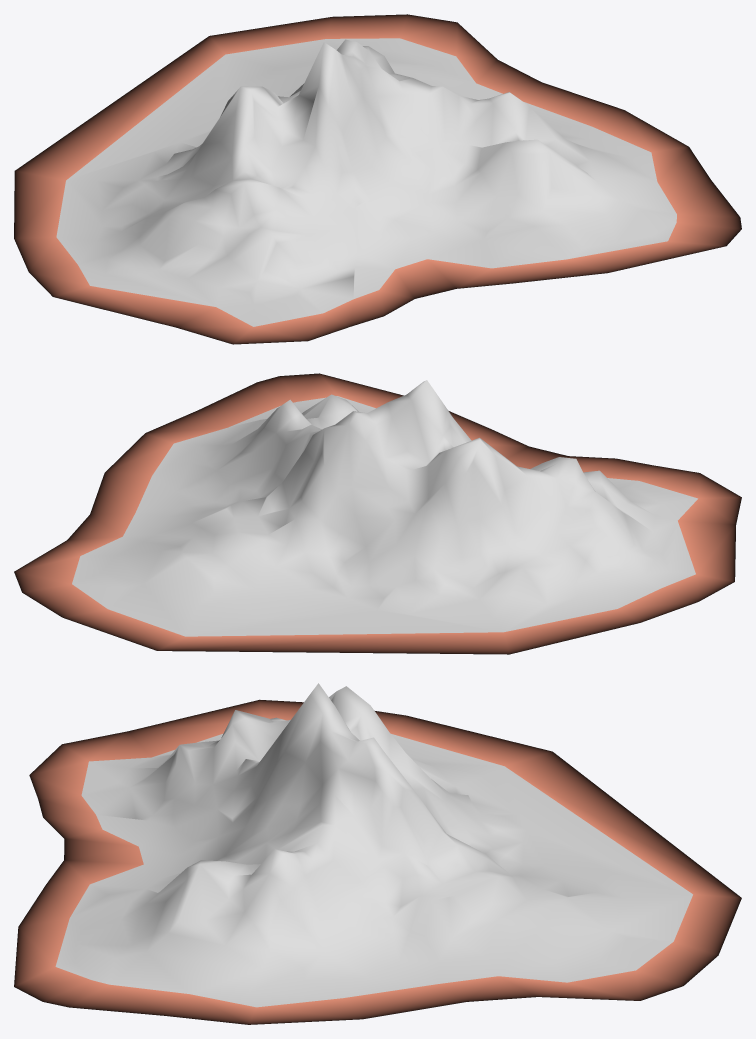
File: mountain_1.FBX
The picture shows the model from 3 angles, top to bottom: view 1: azimuth 30°, elevation 25°; view 2: azimuth 150°, elevation 25°; view 3: azimuth 270°, elevation 25°; orthographic projection. The views are drawn at different scales.
Visible parts, largest first — view 1: mountain_1_; view 2: mountain_1_; view 3: mountain_1_.
Part boxes in pixels (x1=…): mountain_1_: x1=14, y1=14, x2=741, y2=344; mountain_1_: x1=14, y1=373, x2=741, y2=654; mountain_1_: x1=14, y1=683, x2=741, y2=1024.
Bounding box in the file's own units: 2.12 × 0.5194 × 2.01.
